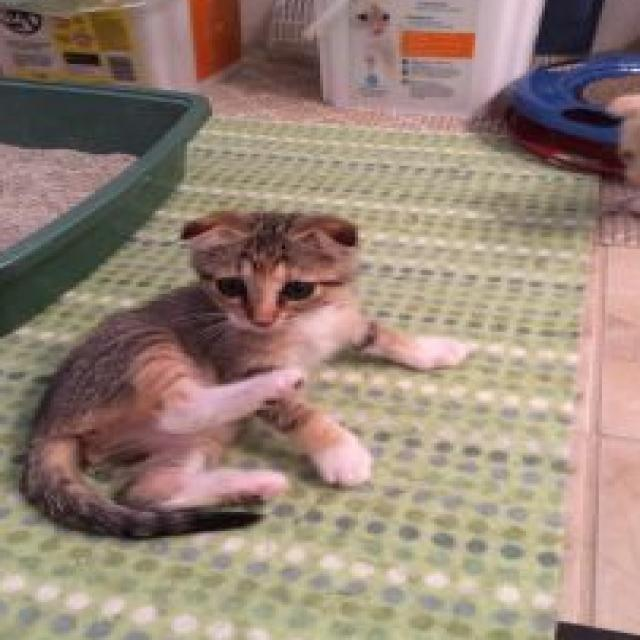Scottish Fold: (15, 204, 478, 542)
